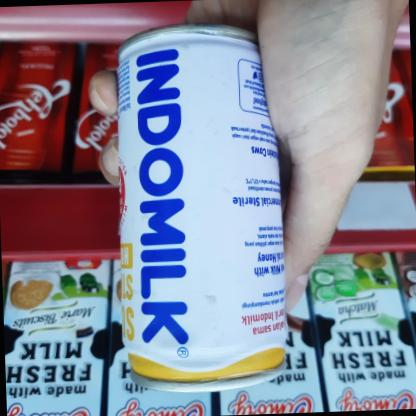alumunium_can: (100, 19, 306, 396)
